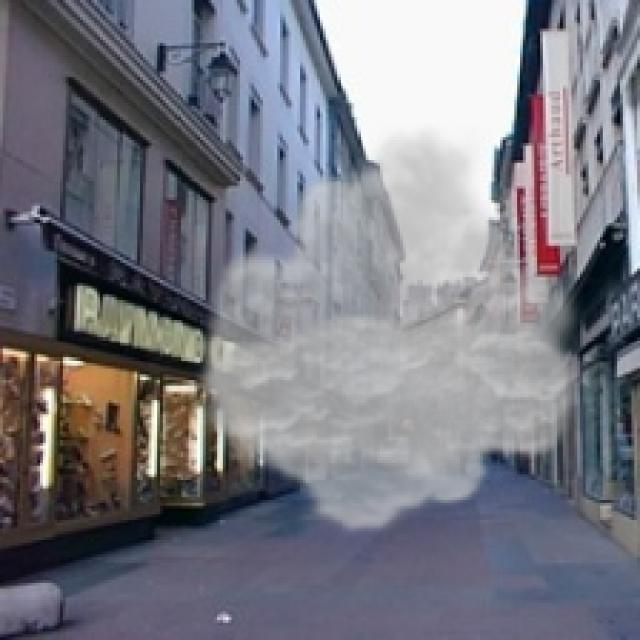smoke: (188, 123, 592, 537)
